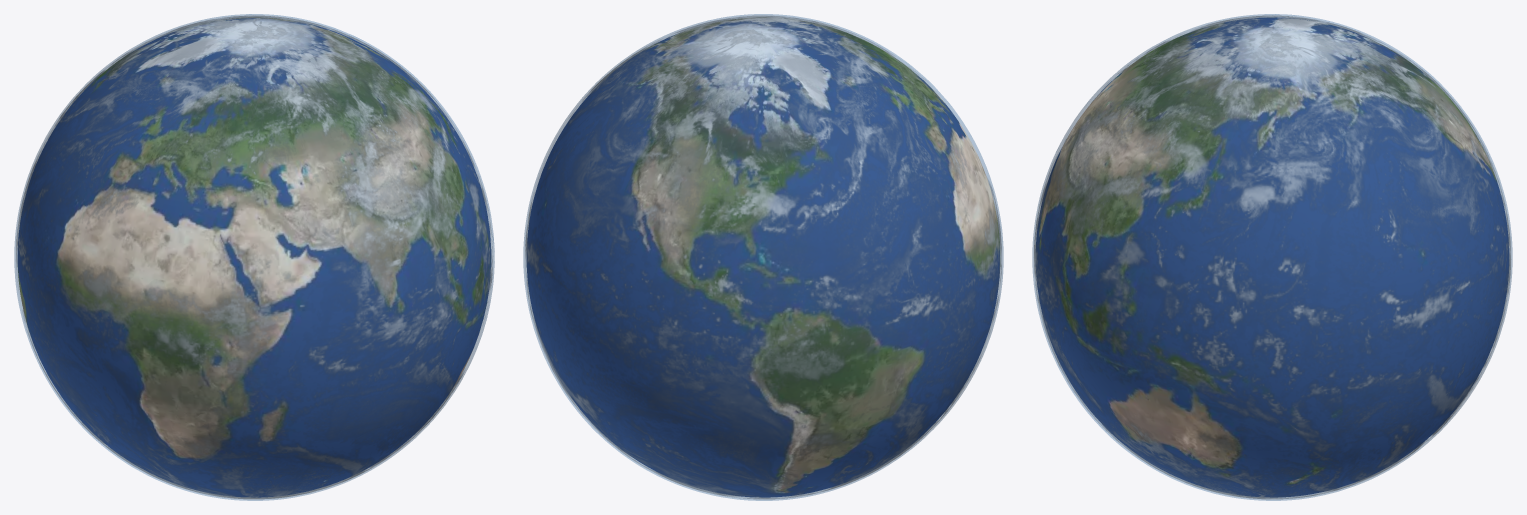
The model's file is earth.glb.
3 renders of one model, left to right at view 1: azimuth 30°, elevation 25°; view 2: azimuth 150°, elevation 25°; view 3: azimuth 270°, elevation 25°, orthographic.
Visible parts, largest first — view 1: pSphere5_lambert7_0, pSphere1_phong1_0, pSphere4_lambert6_0; view 2: pSphere5_lambert7_0, pSphere1_phong1_0, pSphere4_lambert6_0; view 3: pSphere5_lambert7_0, pSphere1_phong1_0, pSphere4_lambert6_0.
Boxes of the visible parts, box(x1,y1,x2,y2) form: pSphere5_lambert7_0: box(14, 14, 494, 500); pSphere1_phong1_0: box(17, 17, 491, 497); pSphere4_lambert6_0: box(16, 15, 492, 499); pSphere5_lambert7_0: box(523, 14, 1003, 500); pSphere1_phong1_0: box(526, 17, 1000, 497); pSphere4_lambert6_0: box(525, 15, 1001, 499); pSphere5_lambert7_0: box(1032, 14, 1512, 500); pSphere1_phong1_0: box(1035, 17, 1509, 497); pSphere4_lambert6_0: box(1034, 15, 1510, 499).
Bounding box in the file's own units: 192 × 196 × 192.
Materials: 3 (2 with a texture image).
